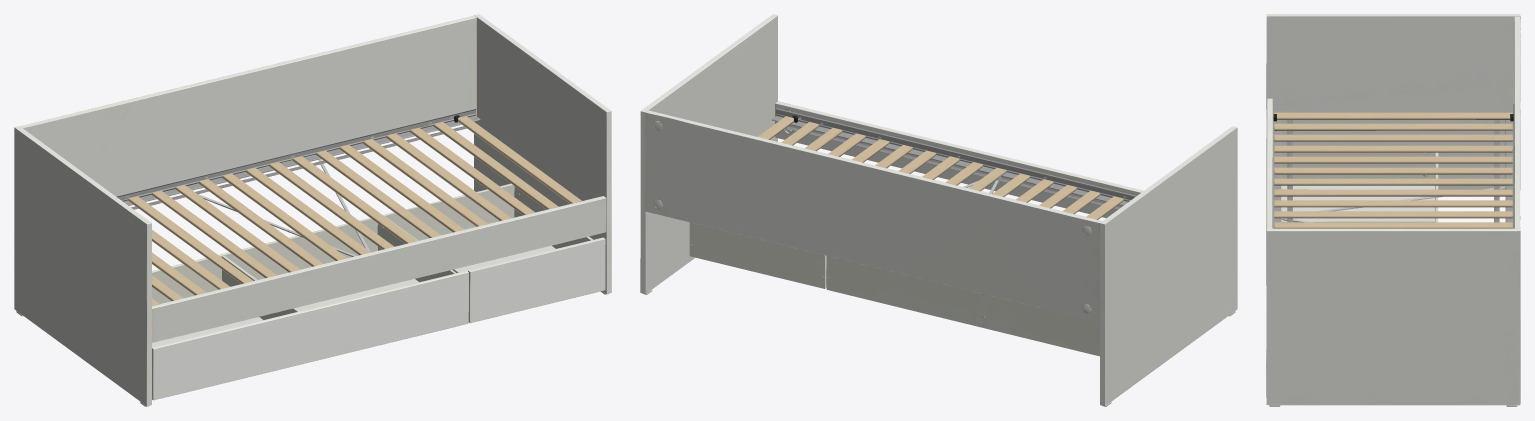
File: vihals_rama_lezanki_z_pojemnikami_89571586.glb
3 views of the same model, side by side, from view 1: azimuth 30°, elevation 25°; view 2: azimuth 150°, elevation 25°; view 3: azimuth 270°, elevation 25° (orthographic). The views are drawn at different scales.
Visible parts, largest first — view 1: vihals_rama_lezanki_z_pojemnikami_89571586; view 2: vihals_rama_lezanki_z_pojemnikami_89571586; view 3: vihals_rama_lezanki_z_pojemnikami_89571586.
Part boxes in pixels (<box>): vihals_rama_lezanki_z_pojemnikami_89571586: <box>14,14,611,406</box>; vihals_rama_lezanki_z_pojemnikami_89571586: <box>640,14,1237,406</box>; vihals_rama_lezanki_z_pojemnikami_89571586: <box>1266,14,1520,406</box>.
Size of the model in its own units: 1.98 by 0.75 by 0.98.
3 materials, 3 textured.
